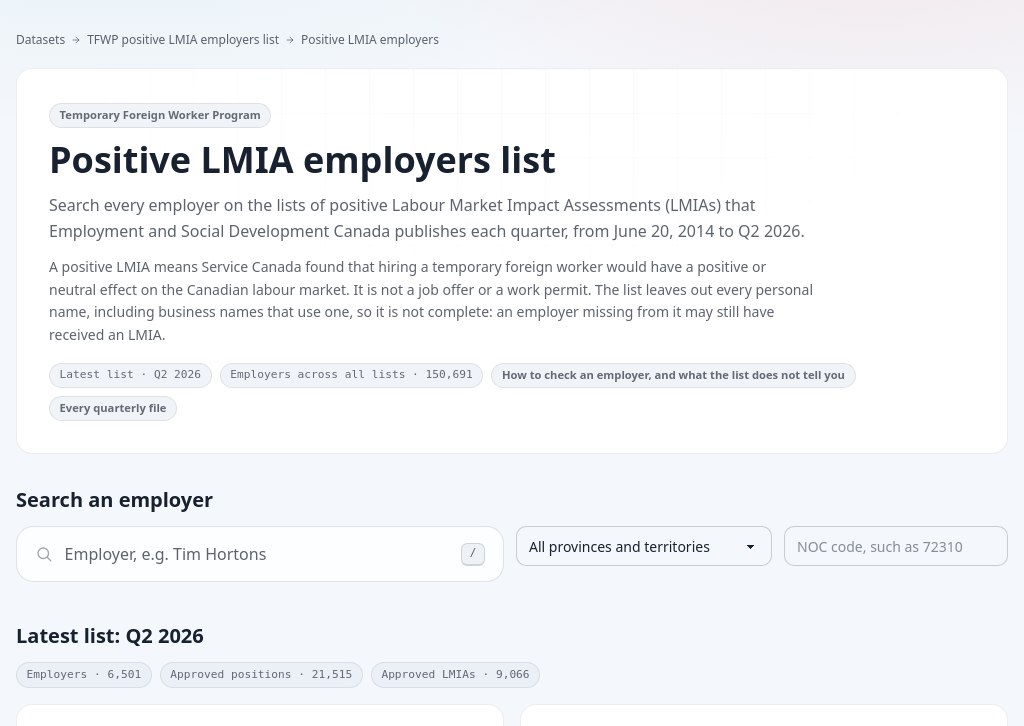
Test: LmiaPage › one letter alone does not search; with a province it does
Step 1. Type "a" into the search field → x=257, y=554, box [65, 527, 449, 581]
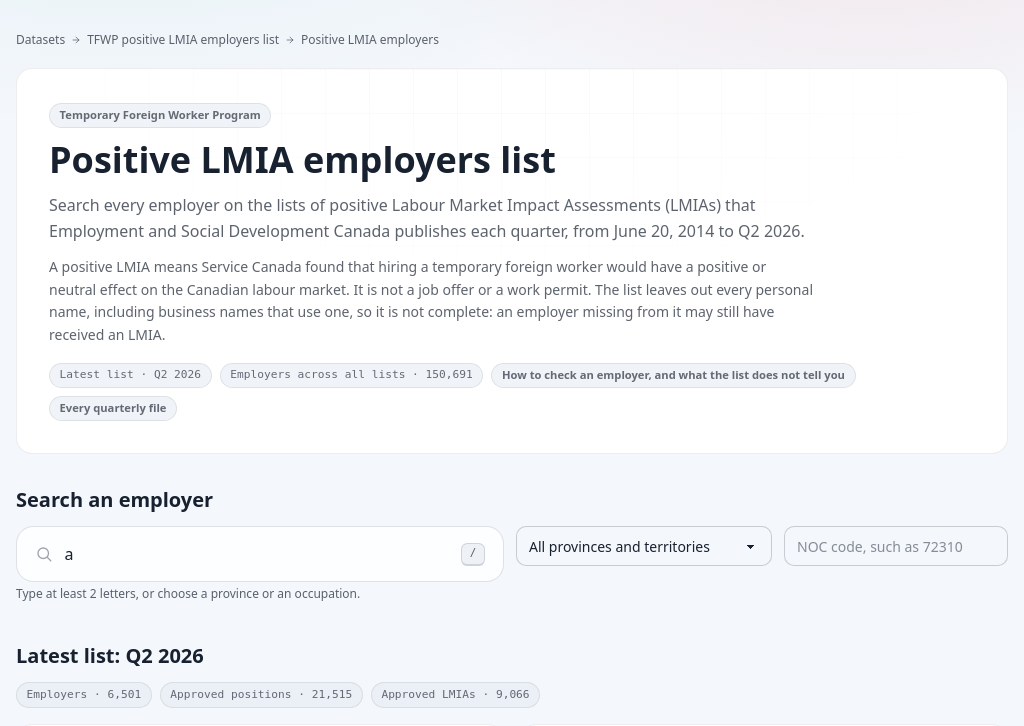
expect the text "Type at least 2 letters, or choose a province or an occupation." is shown: met, box [16, 585, 360, 602]
Step 2. Select "Ontario" in the dropdown named "Province or territory" → x=644, y=546, box [516, 526, 772, 566]
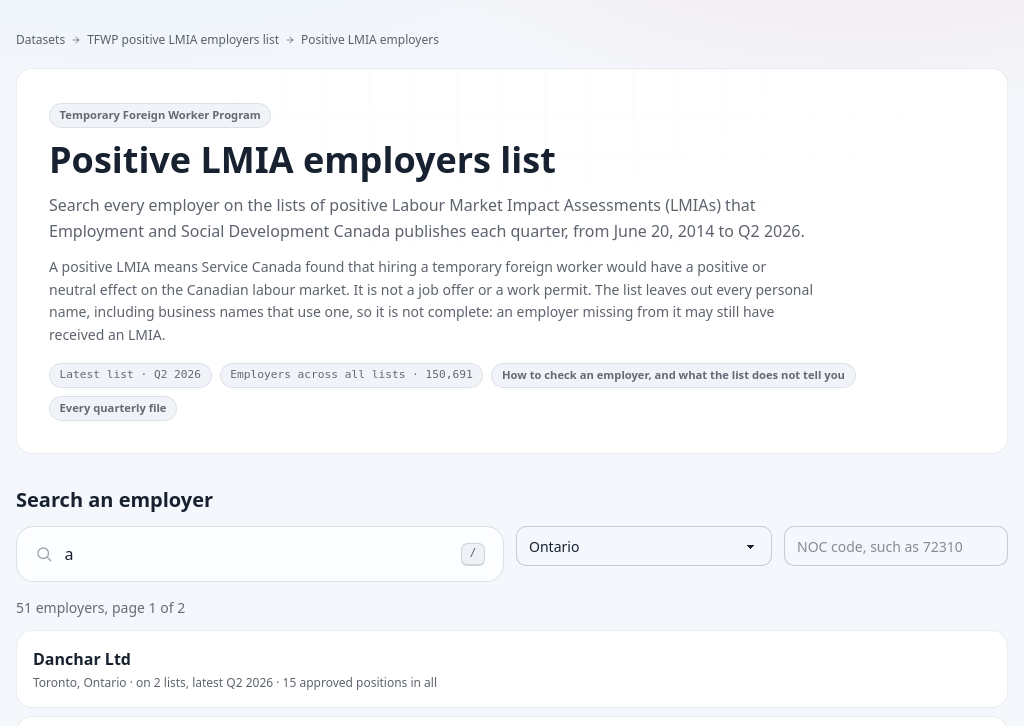
expect the text "Type at least 2 letters" is gone: met
